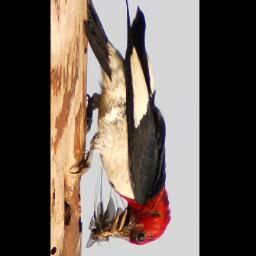Woodpecker: (71, 0, 171, 246)
